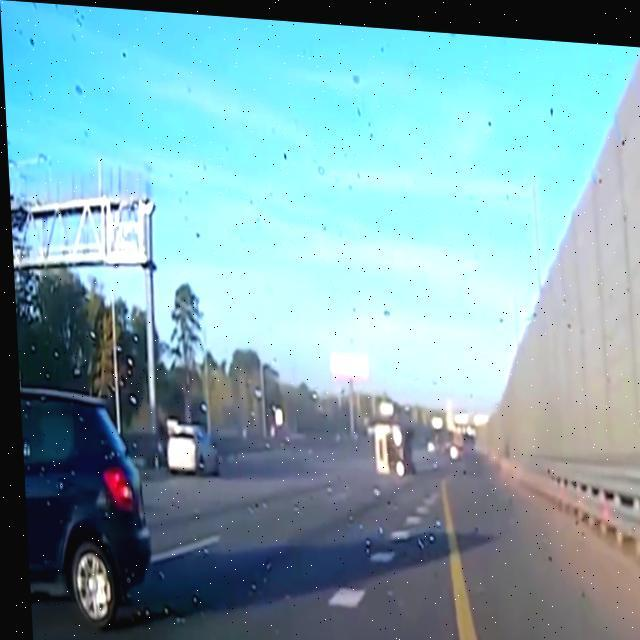single accident: (340, 393, 436, 511)
